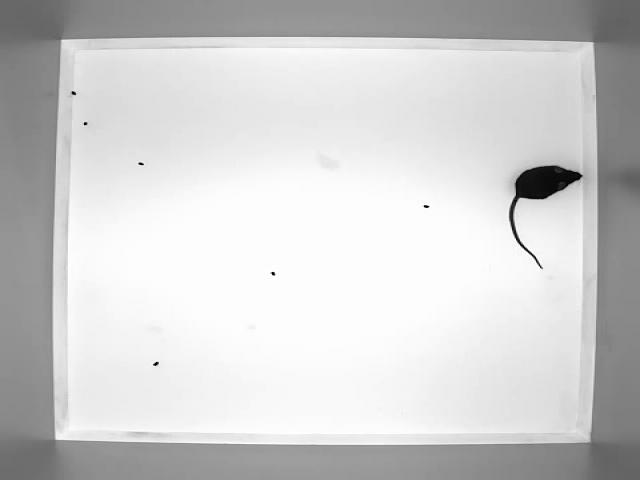Tikus: (506, 160, 594, 272)
